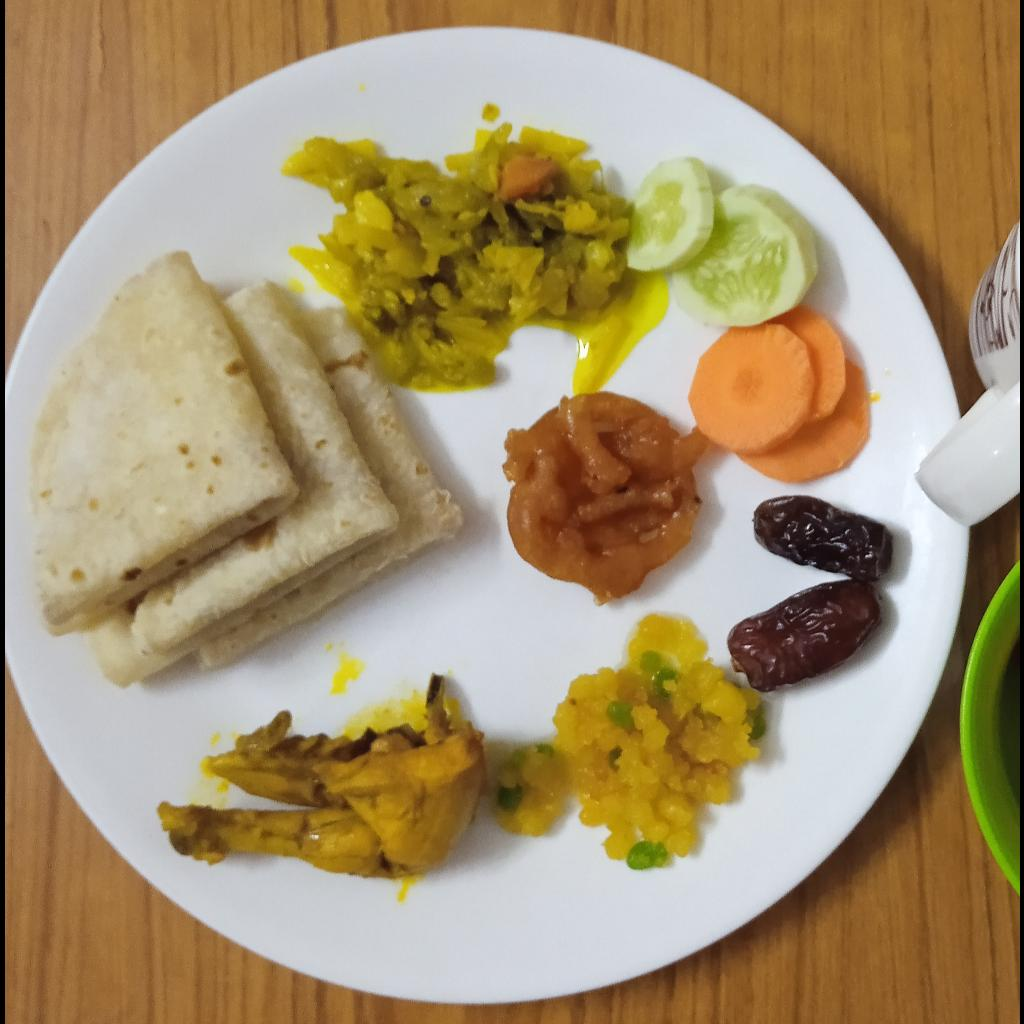burinda: (494, 613, 769, 871)
carrot: (686, 303, 869, 485)
chicken: (156, 673, 488, 881)
cucumber: (630, 156, 817, 327)
dates: (723, 494, 892, 693)
jilapi: (501, 389, 705, 607)
ruti: (29, 251, 459, 692)
vegetable: (282, 123, 638, 396)
